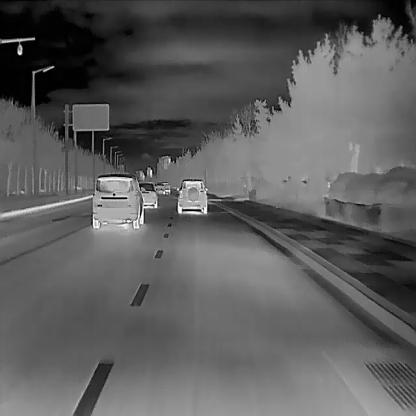car: (91, 173, 145, 228), (176, 178, 208, 214), (138, 180, 157, 208), (154, 183, 165, 194), (162, 181, 171, 194)
